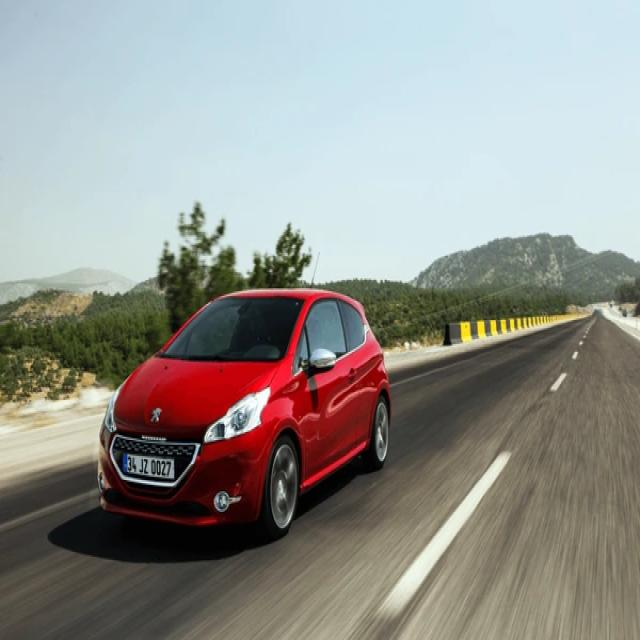pegout: (149, 404, 163, 431)
